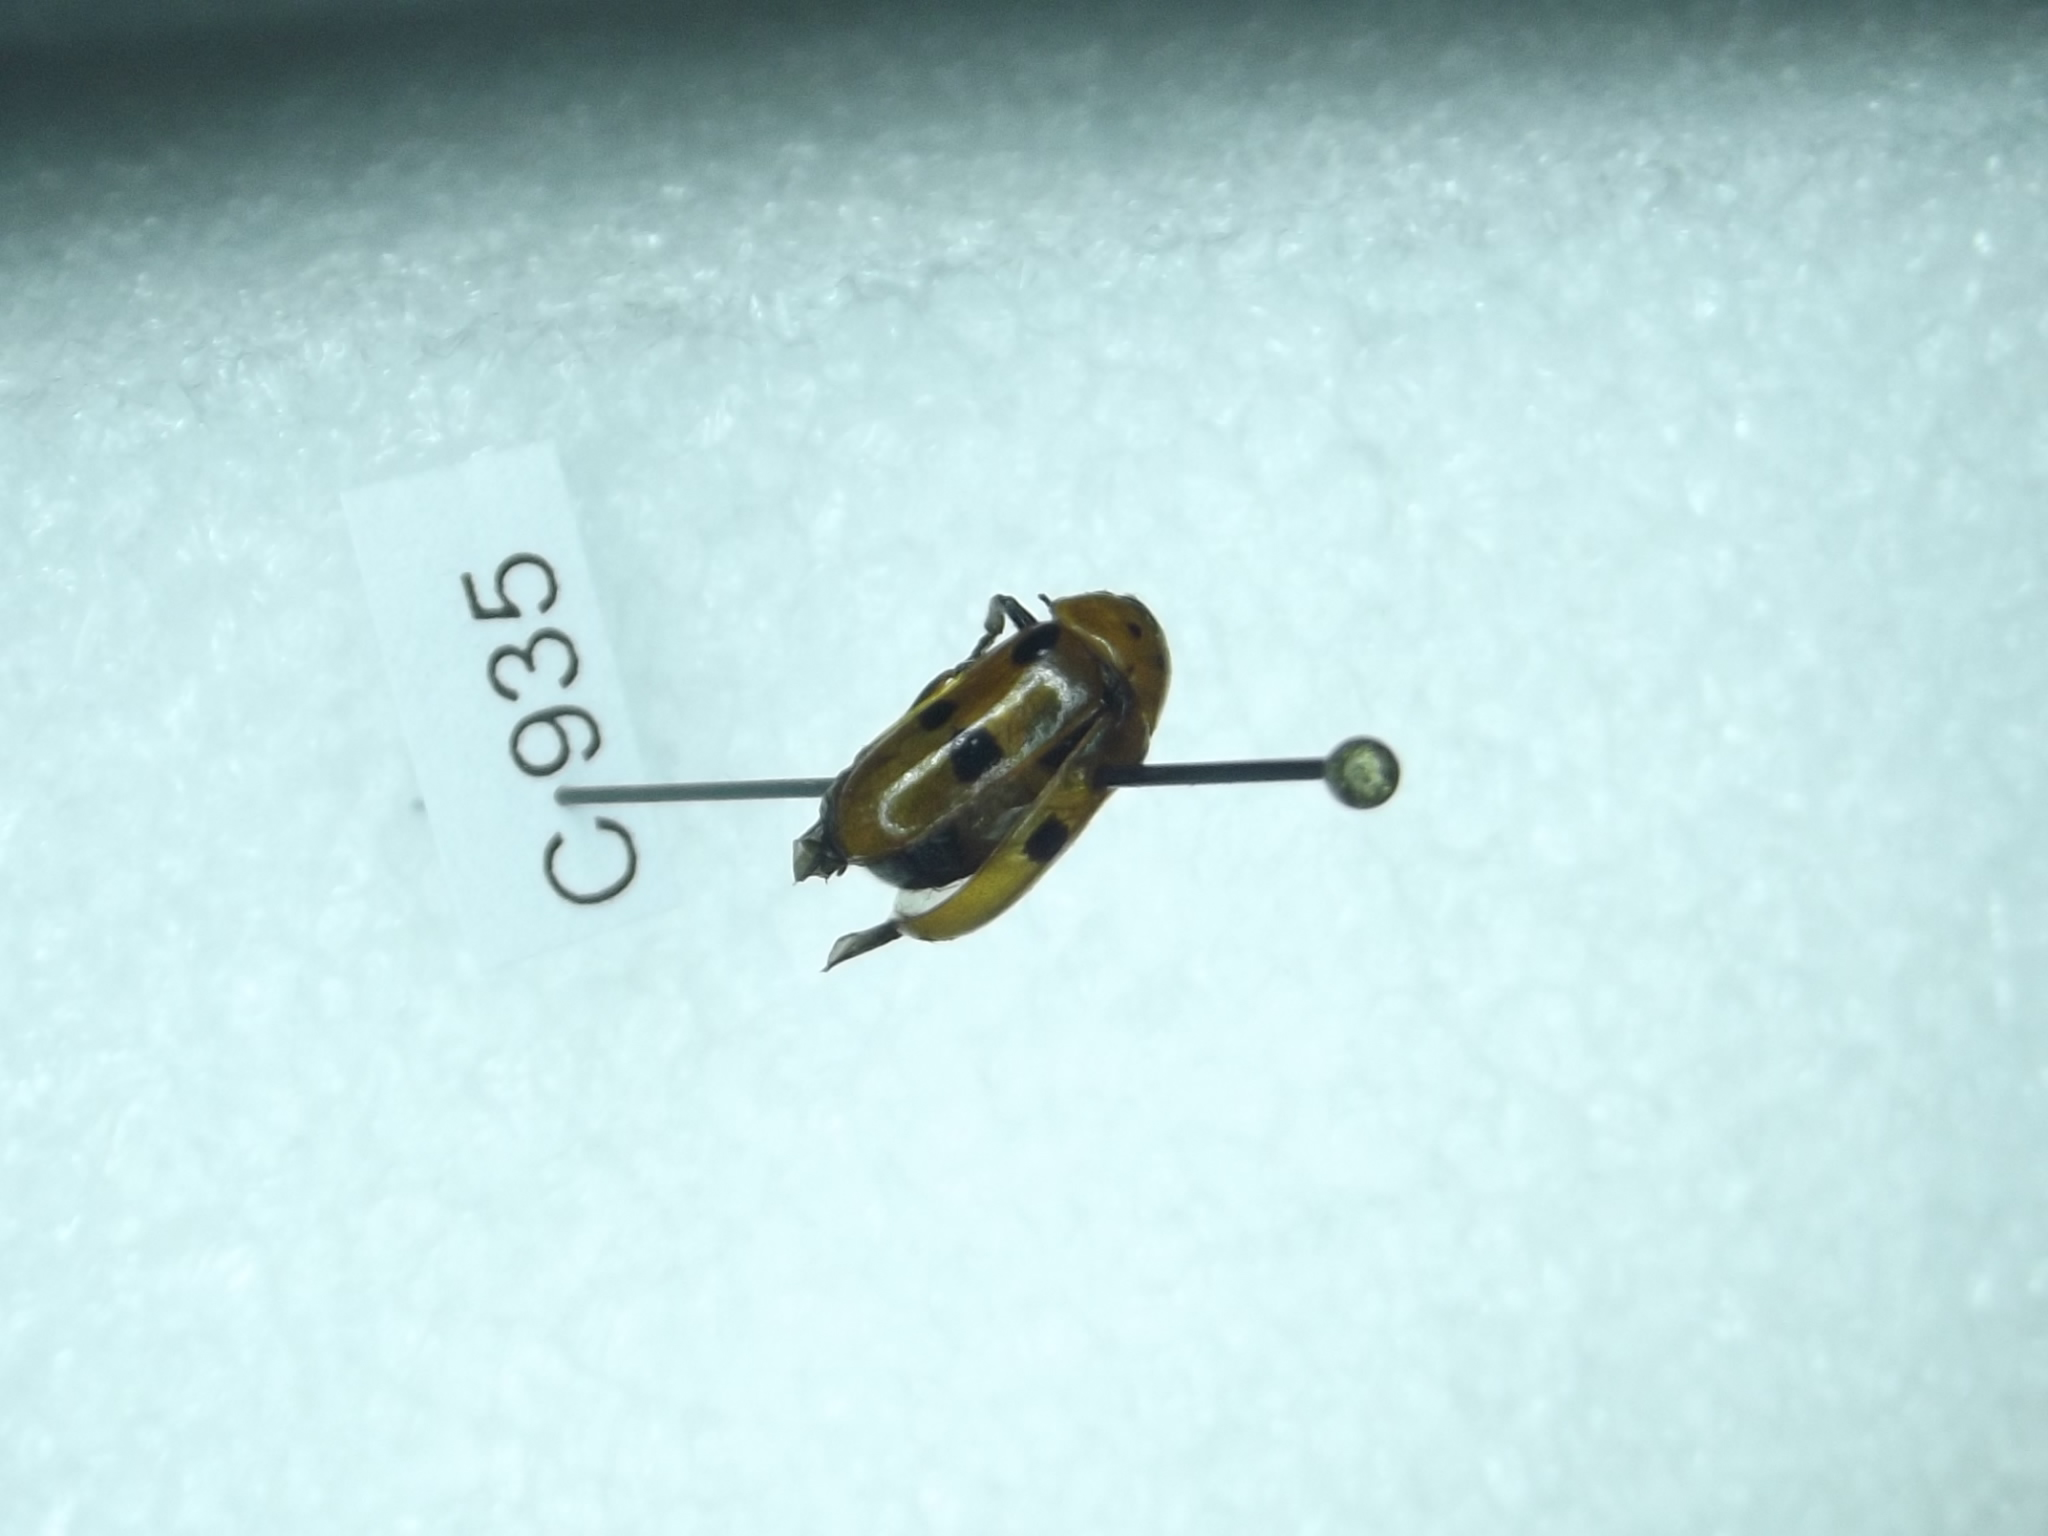Clytra_novempunctata: (769, 578, 1182, 992)
